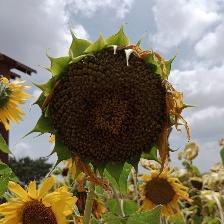sunflower: (26, 20, 197, 196)
